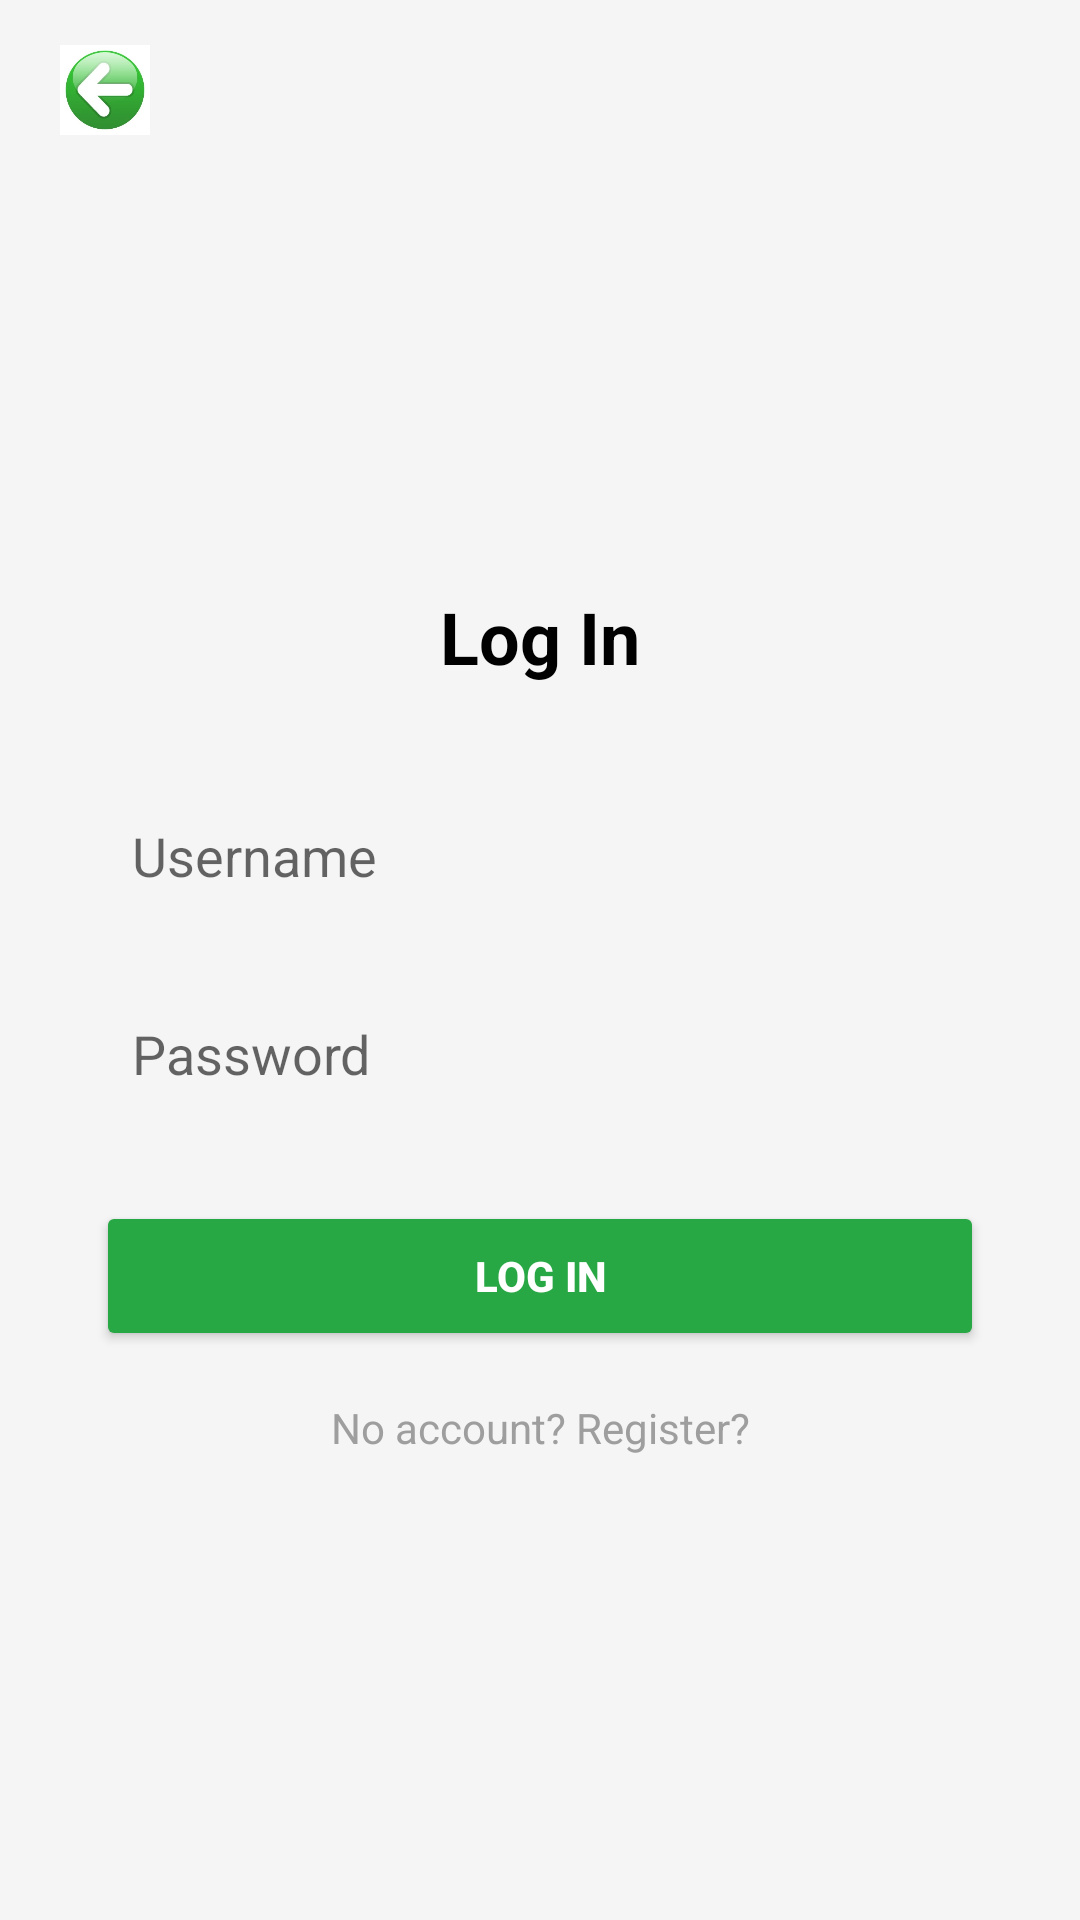

Where icons sit on this 1080*1920 app screen, as box(x1, y1, x2, y2):
arrow: box(65, 50, 145, 130)
